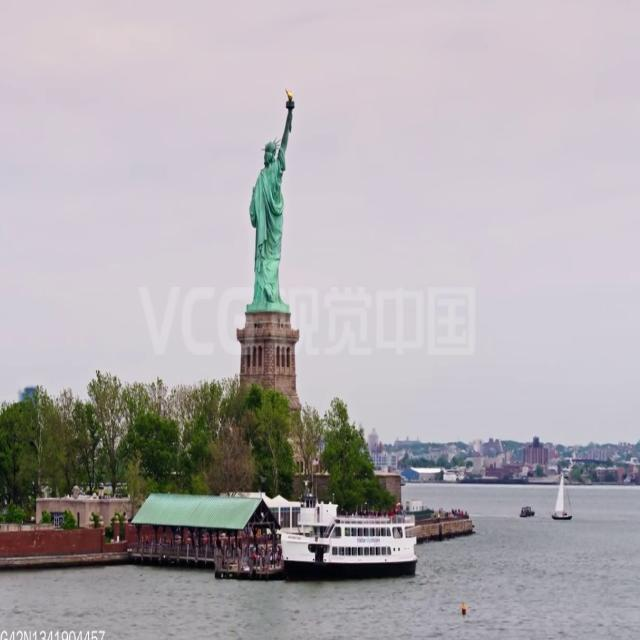houseboat: (519, 499, 537, 523)
passenger ship: (279, 506, 420, 578)
sailboat: (550, 467, 575, 520)
